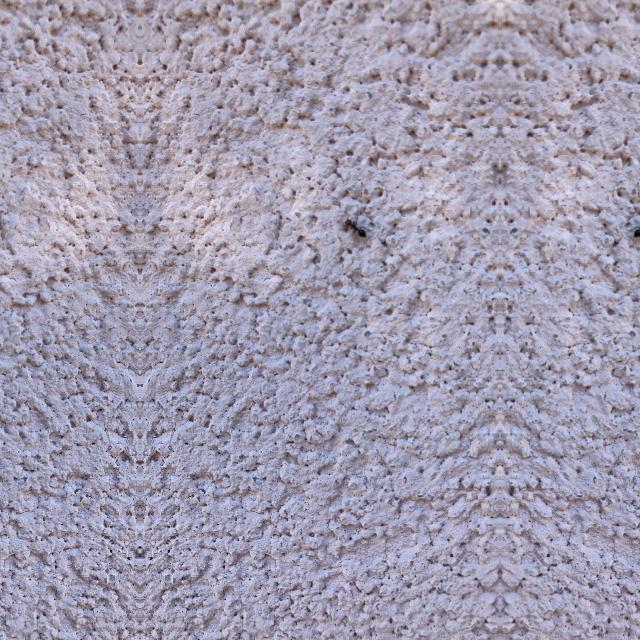Crematogaster: (338, 216, 372, 244), (628, 215, 640, 244)
